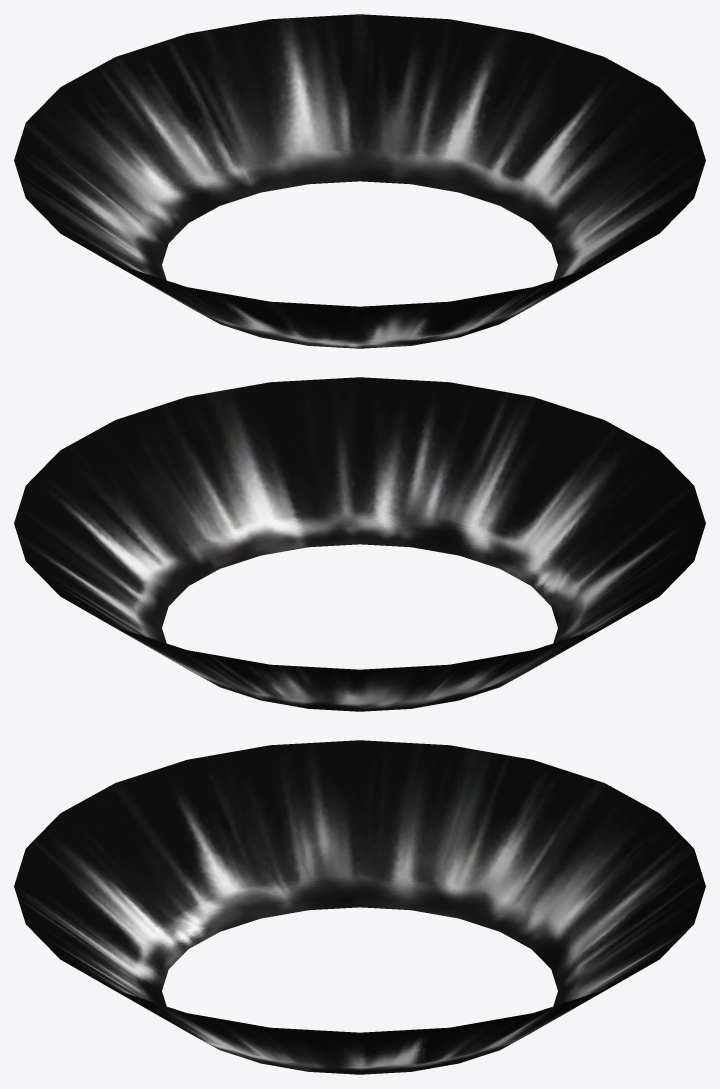
The model's file is yan_1.FBX.
3 views of the same model, one above another, from view 1: azimuth 30°, elevation 25°; view 2: azimuth 150°, elevation 25°; view 3: azimuth 270°, elevation 25° (orthographic).
Parts seen in each view (by area): view 1: Cone001; view 2: Cone001; view 3: Cone001.
Part boxes in pixels (x1,y1,x2,y2): Cone001: (14,14,705,348); Cone001: (14,377,705,711); Cone001: (14,740,705,1074).
Size of the model in its own units: 83.43 by 13.92 by 83.43.
